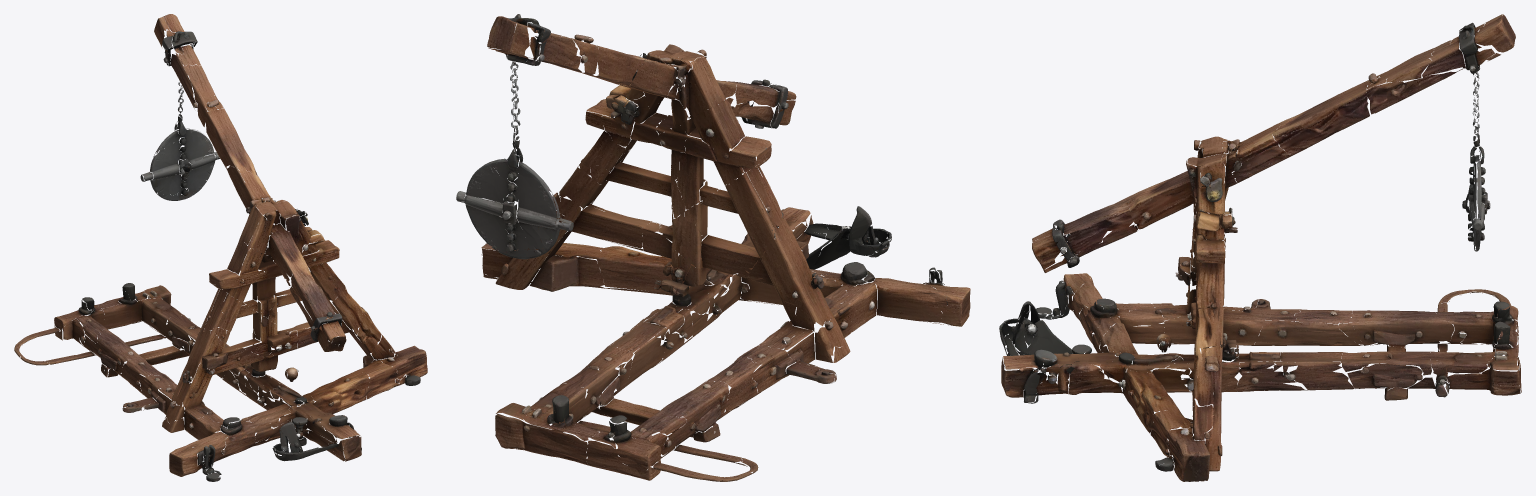
The model's file is trebuchet.glb.
3 views of the same model, side by side, from view 1: azimuth 30°, elevation 25°; view 2: azimuth 150°, elevation 25°; view 3: azimuth 270°, elevation 25° (orthographic). The views are drawn at different scales.
Visible parts, largest first — view 1: world; view 2: world; view 3: world.
Boxes of the visible parts, bbox=[...] form: world: bbox=[14, 14, 427, 481]; world: bbox=[456, 14, 970, 481]; world: bbox=[999, 14, 1521, 481].
Bounding box in the file's own units: 0.8324 × 0.818 × 0.9998.
1 material, 1 textured.
